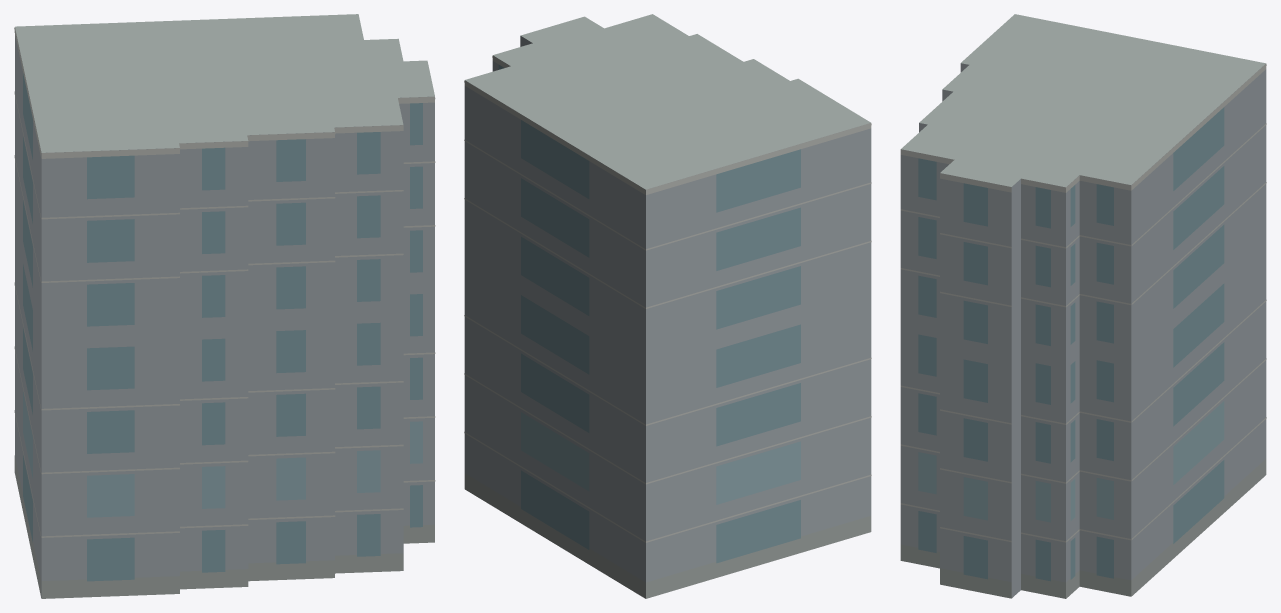
The model's file is survey-upis-32672125.glb.
3 views of the same model, side by side, from view 1: azimuth 30°, elevation 25°; view 2: azimuth 150°, elevation 25°; view 3: azimuth 270°, elevation 25° (orthographic). The views are drawn at different scales.
Visible parts, largest first — view 1: survey-upis-32672125.tmp; view 2: survey-upis-32672125.tmp; view 3: survey-upis-32672125.tmp.
Boxes of the visible parts, left/top/right/bottom form: survey-upis-32672125.tmp: left=14, top=14, right=435, bottom=598; survey-upis-32672125.tmp: left=464, top=14, right=871, bottom=598; survey-upis-32672125.tmp: left=900, top=14, right=1266, bottom=598.
Size of the model in its own units: 16.28 by 18 by 14.52.
